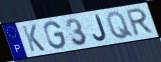3: (65, 16, 88, 47)
G: (43, 20, 67, 50)
J: (92, 14, 108, 43)
K: (21, 24, 47, 53)
Q: (105, 11, 135, 41)
R: (125, 7, 156, 38)
